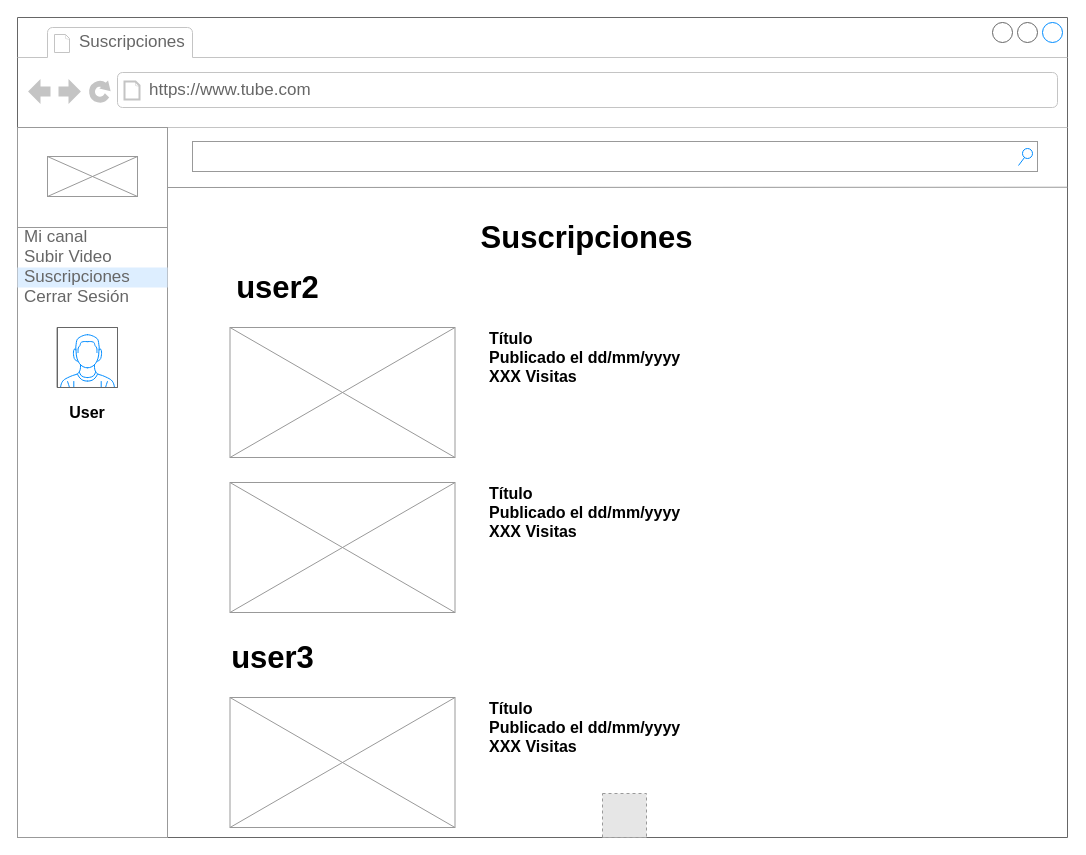
The diagram is 1086 pixels wide and 855 high, and some of its shapes have lost their labels. Grey dashed boxes stand in for pictures. The box of each missing label's shape, as (x1, y1, x2, y2) in pixels:
Logo: (16, 166, 168, 186)
Search: (192, 140, 1038, 172)
